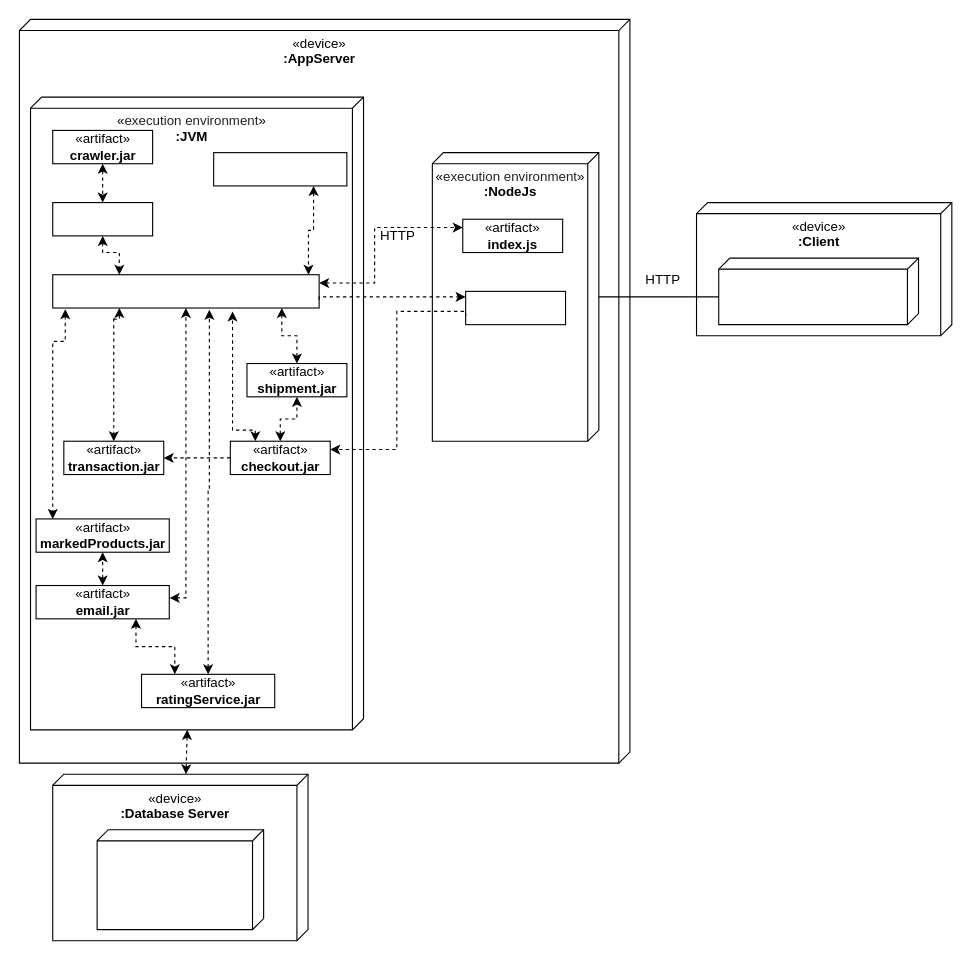
Some shapes in this 971 by 960 pixel diagram are drawn without their labels. The shapes that lost their labels are listed below. From the top down, each one's box as (x1, y1, x2, y2) in pixels, then its label:
(213, 152, 347, 186): «artifact» profit.jar
(52, 201, 153, 236): «artifact» inventory.jar
(52, 274, 319, 308): «artifact» gateway.jar
(465, 290, 566, 325): «artifact» cart.js
(718, 257, 919, 325): « execution environment » :Browser
(96, 829, 264, 930): « execution environment » :JpaRepository
